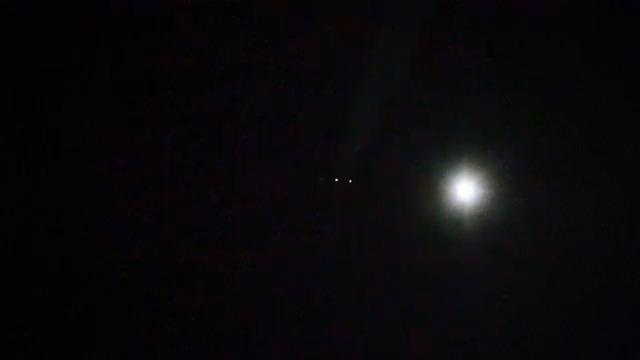Plane: (314, 146, 365, 192)
